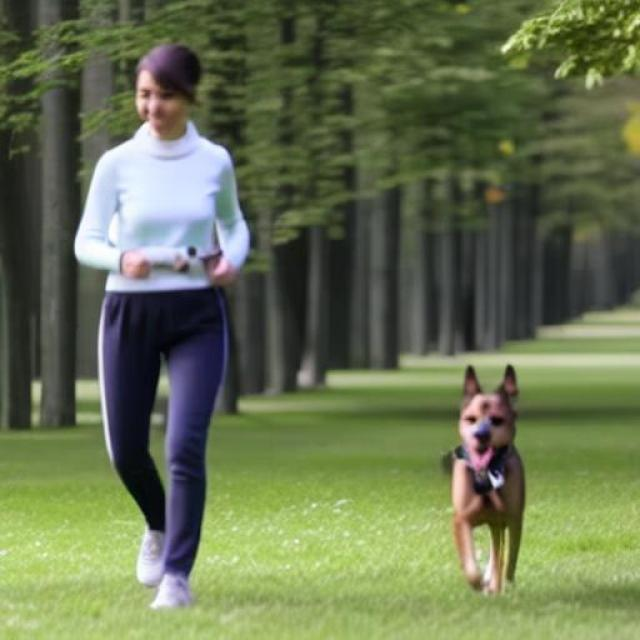Unleashed_Dog: (116, 268, 526, 603)
